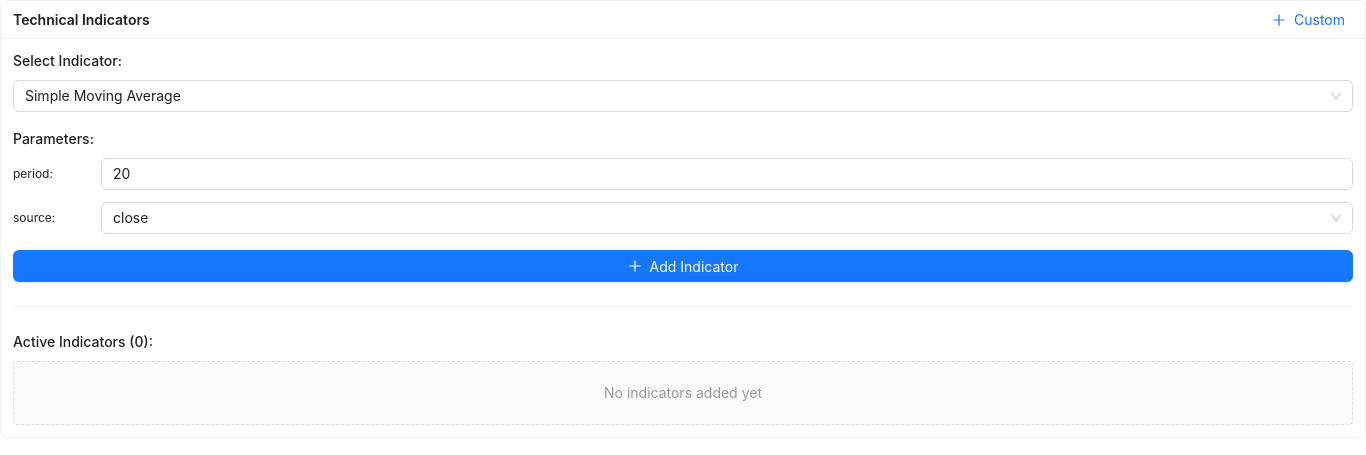
IndicatorBuilder › Adding Indicators › should show indicator in active list after adding
This screenshot has width=1366, height=455.
Click the button "Add Indicator". click: (683, 266)
box: [13,250,1353,282]
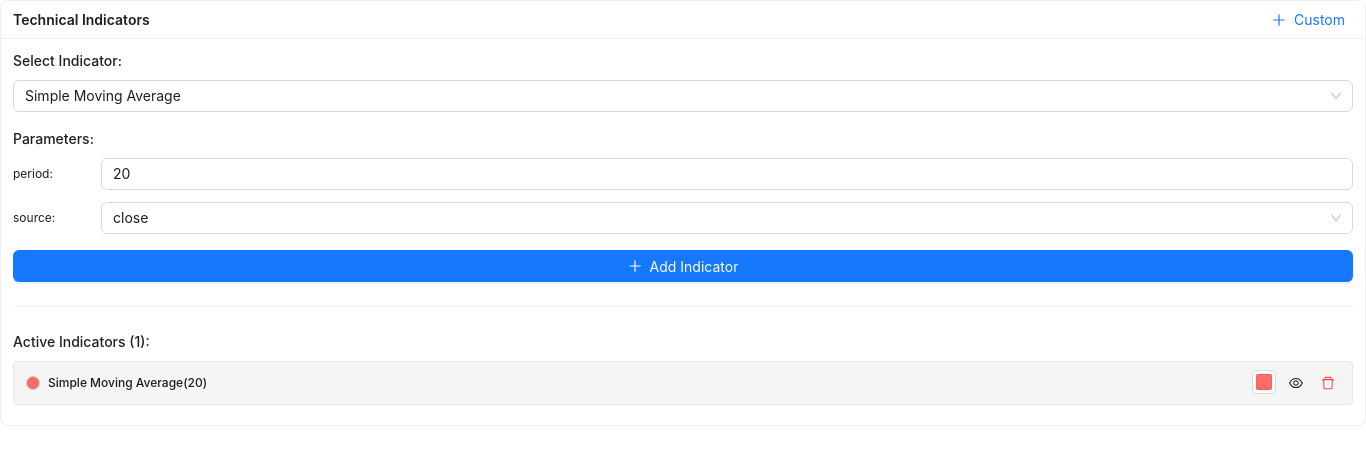
Expected: the text "Active Indicators (1):" is shown, [13,333,150,350]
Expected: the text "Simple Moving Average(20)" is shown, [48,374,207,392]
